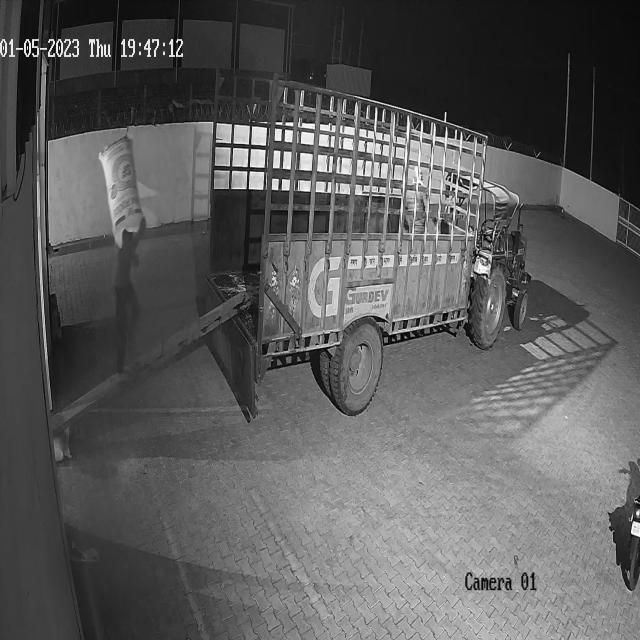sack: (98, 136, 142, 248)
